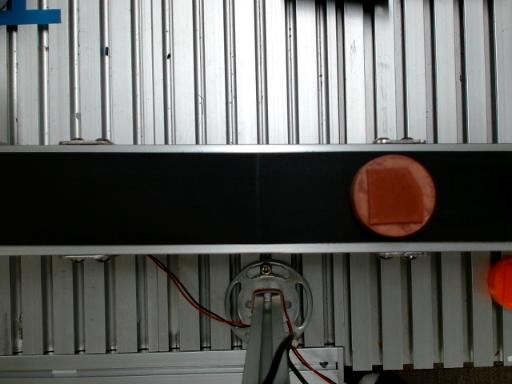Brown_Waper: (351, 154, 436, 238)
Not_Square: (367, 167, 425, 225)
